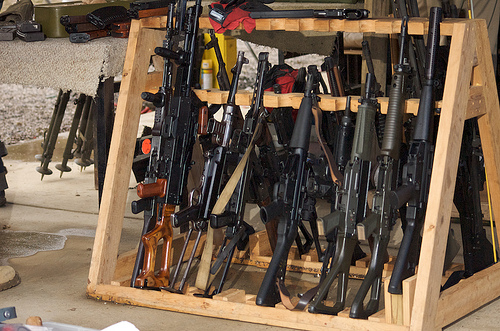rifle: (140, 6, 196, 277), (402, 1, 444, 290), (277, 25, 317, 300), (205, 15, 242, 282), (372, 8, 405, 287), (236, 25, 270, 273)
